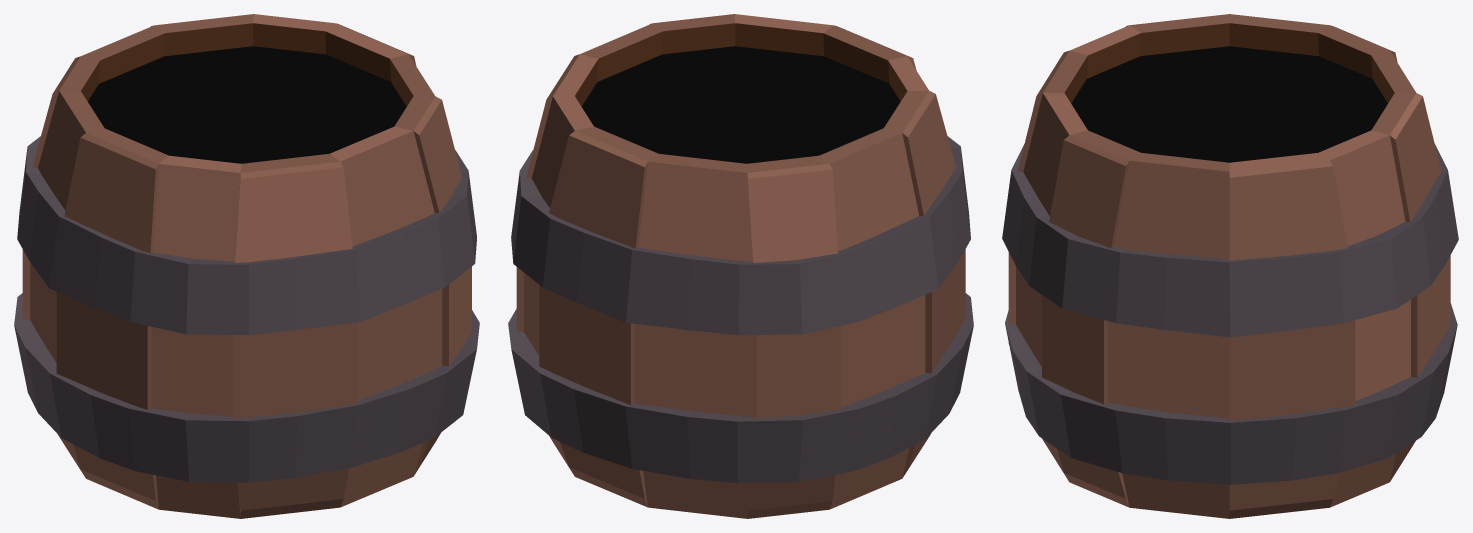
The model's file is Barril-Oleo.glb.
The picture shows the model from 3 angles, left to right: view 1: azimuth 30°, elevation 25°; view 2: azimuth 150°, elevation 25°; view 3: azimuth 270°, elevation 25°; orthographic projection.
Visible parts, largest first — view 1: Barril-oleo; view 2: Barril-oleo; view 3: Barril-oleo.
Boxes of the visible parts, box(x1,y1,x2,y2) form: Barril-oleo: box(14, 14, 479, 518); Barril-oleo: box(508, 14, 973, 518); Barril-oleo: box(1002, 14, 1458, 518).
Bounding box in the file's own units: 1.86 × 1.56 × 1.86.
